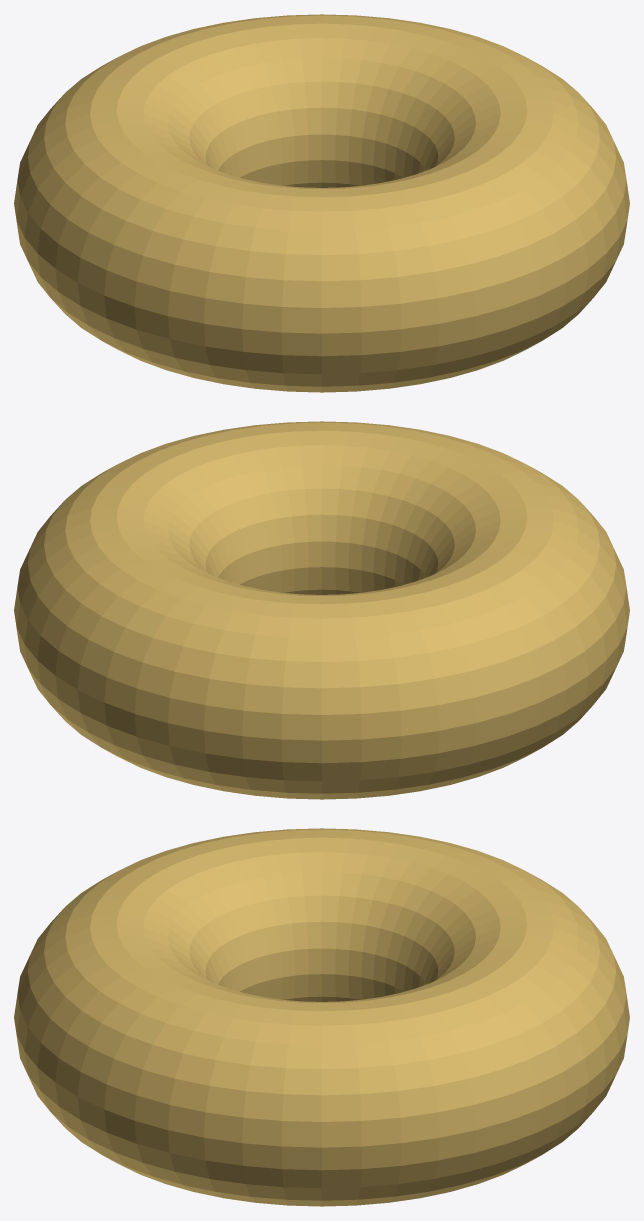
Rendered from cheerio.dae.
3 views of the same model, one above another, from view 1: azimuth 30°, elevation 25°; view 2: azimuth 150°, elevation 25°; view 3: azimuth 270°, elevation 25° (orthographic).
Parts seen in each view (by area): view 1: Torus; view 2: Torus; view 3: Torus.
Boxes of the visible parts, x1,y1,x2,y2 form: Torus: (14,14,629,392); Torus: (14,421,629,799); Torus: (14,828,629,1206).
Bounding box in the file's own units: 3 × 3 × 1.
